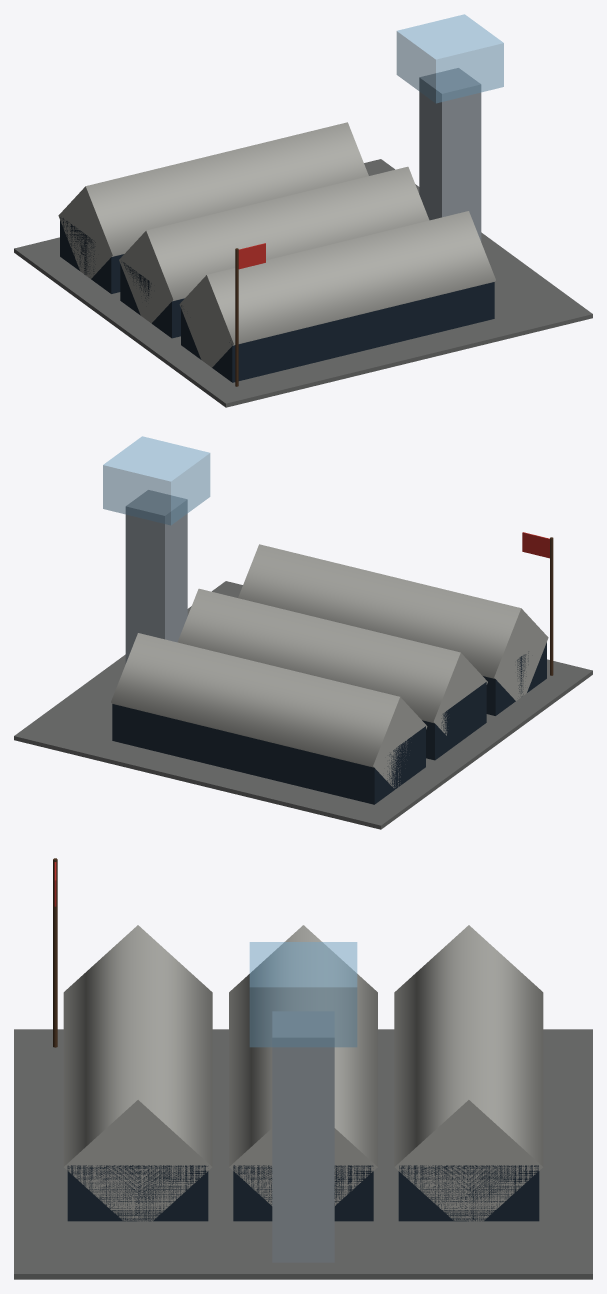
The model's file is bld_special_barracks_a07_lod2.glb.
The picture shows the model from 3 angles, top to bottom: view 1: azimuth 30°, elevation 25°; view 2: azimuth 150°, elevation 25°; view 3: azimuth 270°, elevation 25°; orthographic projection. The views are drawn at different scales.
Visible parts, largest first — view 1: body; view 2: body; view 3: body.
Part boxes in pixels (left/top/right/bottom): body: left=14, top=14, right=592, bottom=407; body: left=14, top=436, right=592, bottom=829; body: left=14, top=858, right=592, bottom=1279.
Size of the model in its own units: 14 by 7.95 by 14.
